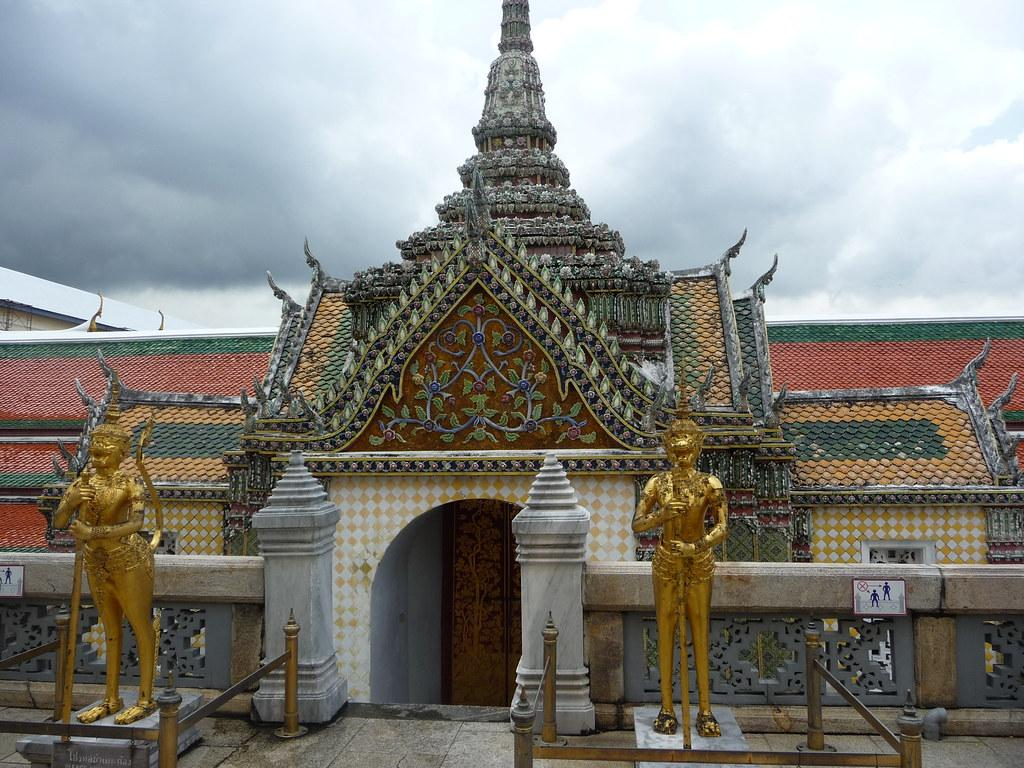temple: (219, 1, 811, 731)
